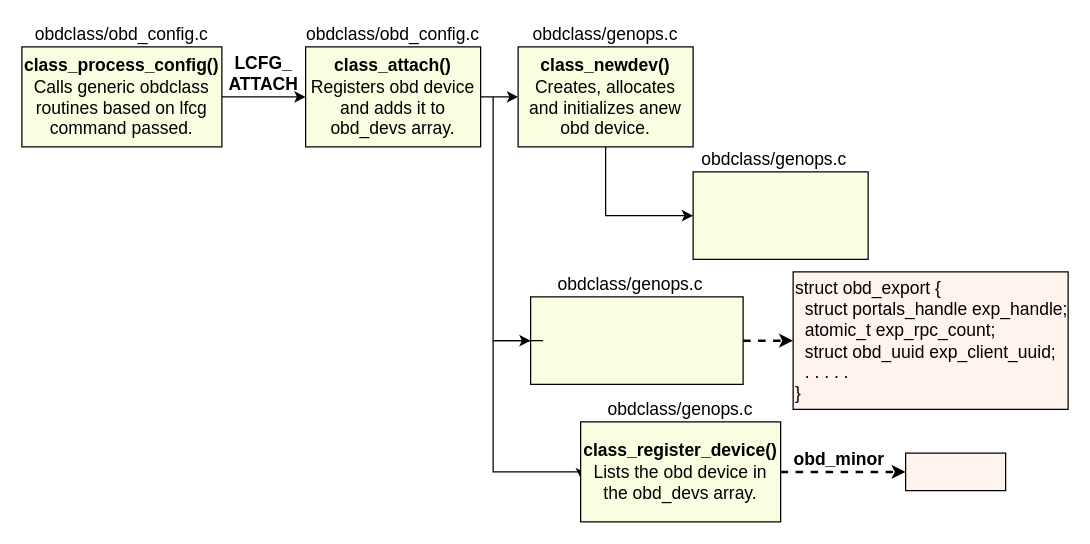
Image size: 1090x544. Some labels were removed from this diagram. The shapes that lost their labels are listed below. From the top down, each one's centre as x and y in pixels, then its label:
At pixel 780 215: "class_get_type() Registers obd device and loads the module.".
At pixel 636 340: "class_new_export_self() Creates a self export for the obd device.".
At pixel 955 471: "obd_devs[ ]".
